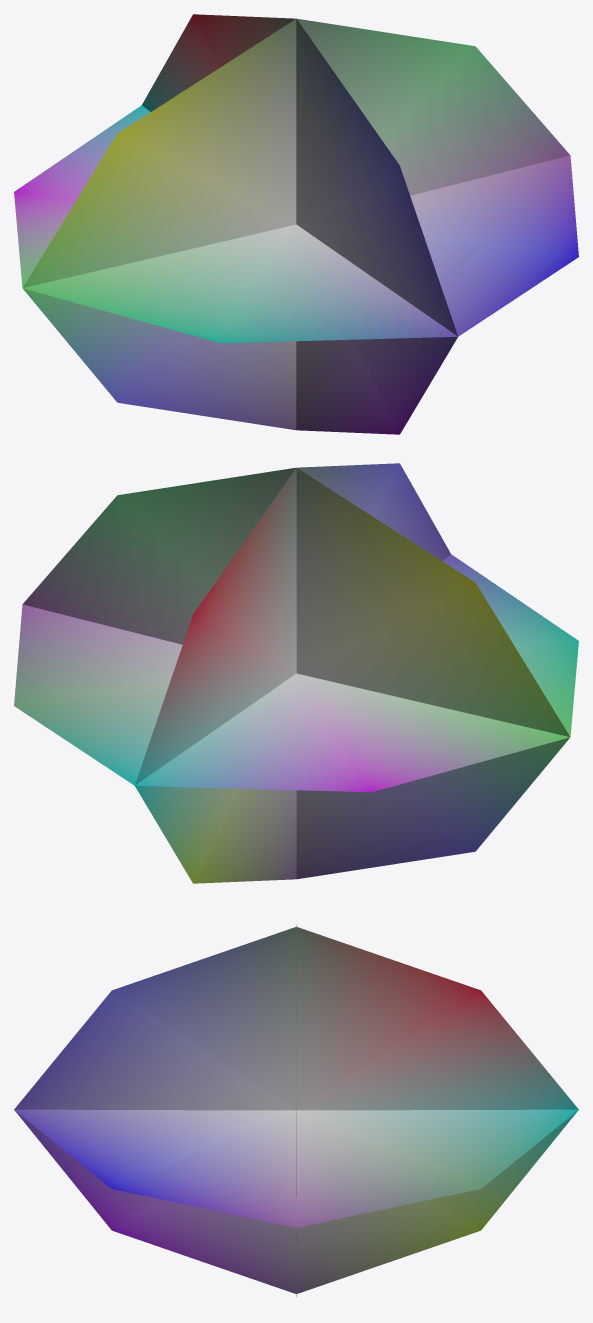
Rendered from space-asteroids-crystal-asteroid_v11.glb.
The picture shows the model from 3 angles, top to bottom: view 1: azimuth 30°, elevation 25°; view 2: azimuth 150°, elevation 25°; view 3: azimuth 270°, elevation 25°; orthographic projection. The views are drawn at different scales.
Parts seen in each view (by area): view 1: Crystal Asteroid_v11; view 2: Crystal Asteroid_v11; view 3: Crystal Asteroid_v11.
Part boxes in pixels (bbox=[...]): Crystal Asteroid_v11: bbox=[14, 14, 578, 434]; Crystal Asteroid_v11: bbox=[14, 463, 578, 883]; Crystal Asteroid_v11: bbox=[14, 924, 578, 1296].
Size of the model in its own units: 100 by 71.78 by 100.
